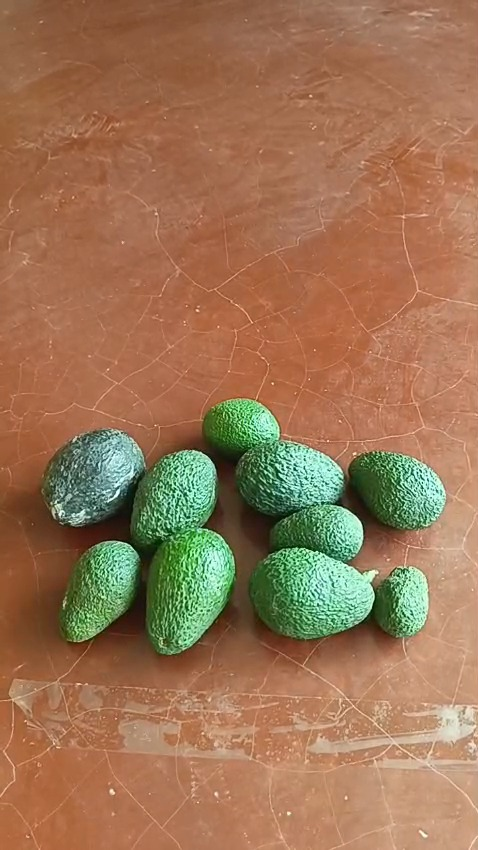Primera: (145, 526, 238, 655), (248, 550, 374, 639), (40, 429, 145, 528), (132, 451, 220, 554), (236, 440, 346, 519), (347, 452, 445, 532)
Segunda: (57, 540, 141, 643), (270, 506, 364, 563), (204, 400, 281, 460)
Tercera: (373, 565, 431, 637)
